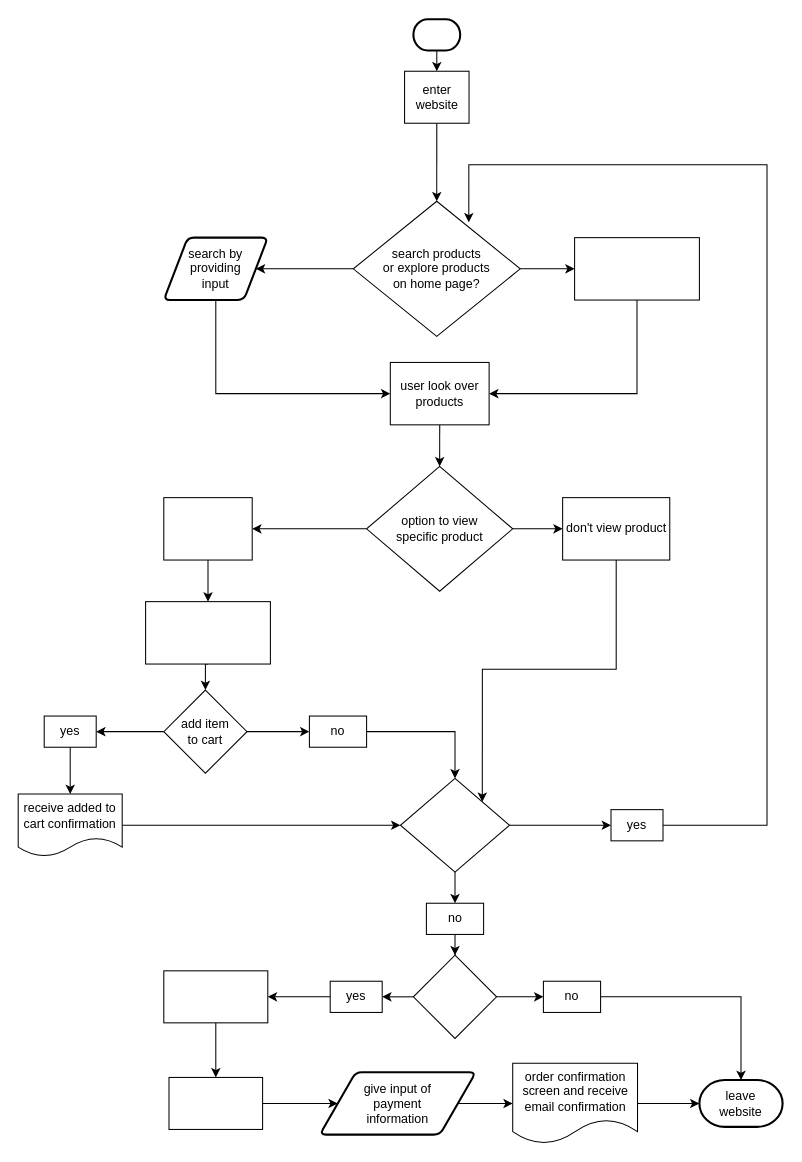
Some shapes in this 802 by 1162 pixel diagram are drawn without their labels. The centre of each missing label's shape, as x and y in pixels:
check out?: (x=454, y=996)
continue shopping?: (x=454, y=824)
explore the products on the home page: (x=636, y=268)
product webpage opens: (x=207, y=632)
start: (x=436, y=34)
view cart screen: (x=215, y=996)
view payment screen: (x=215, y=1102)
view product: (x=207, y=528)
